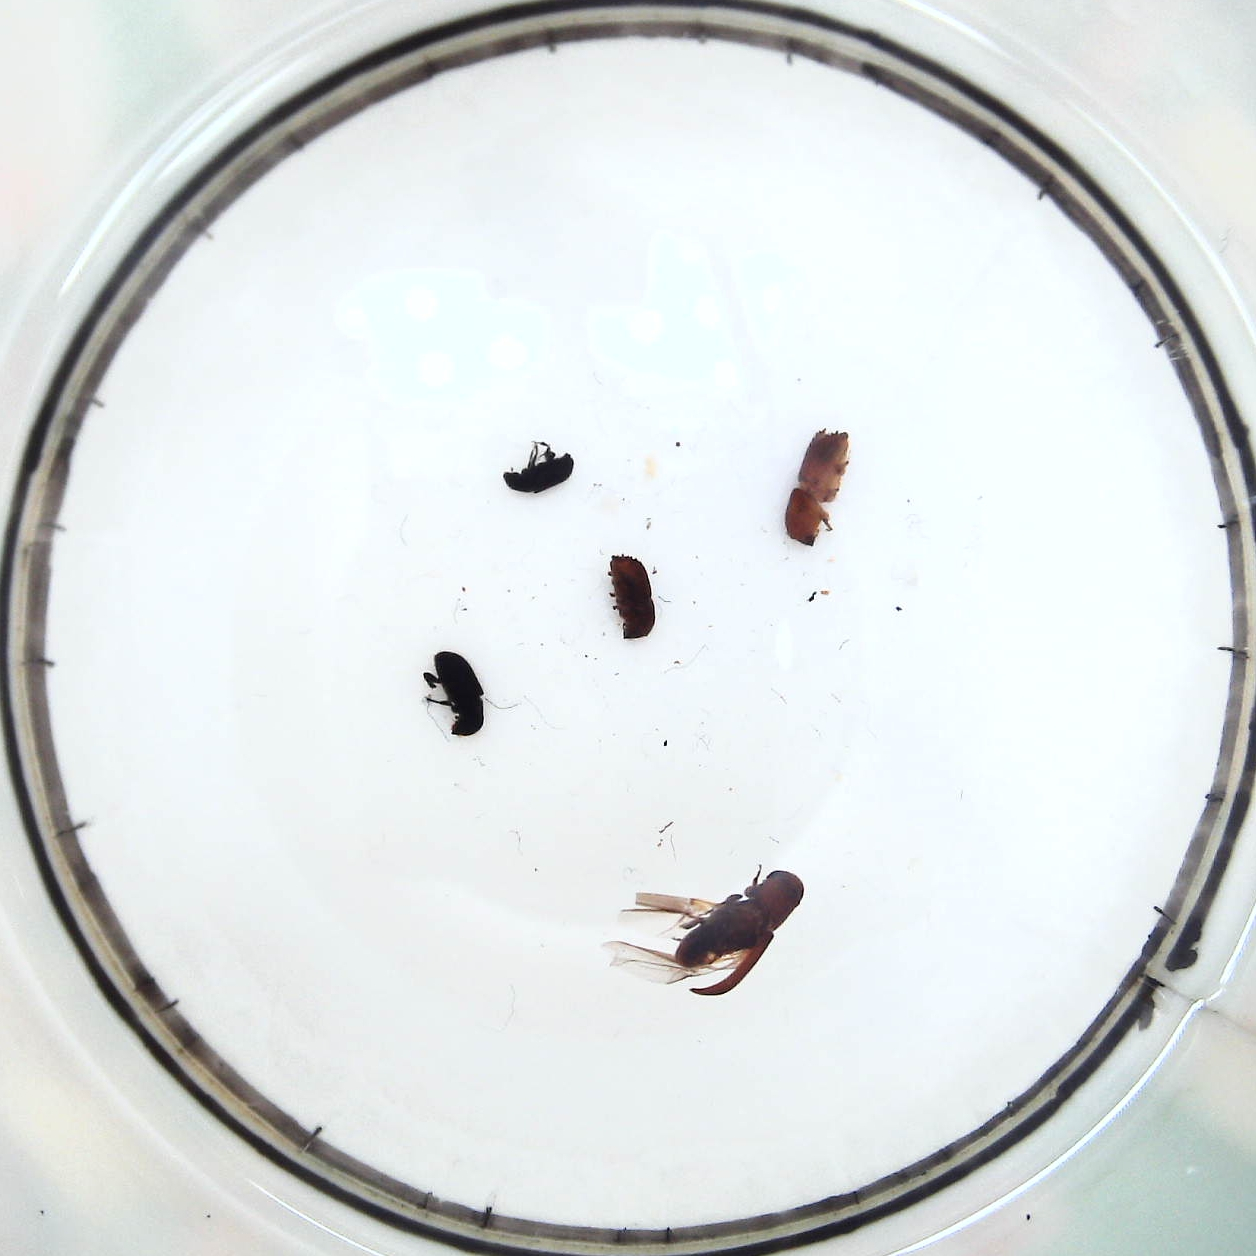Boerner: (782, 427, 851, 546)
Leconte: (608, 872, 806, 1000)
Linnaeus: (608, 547, 657, 643)
armandi: (429, 648, 484, 737)
coleoptera: (503, 449, 576, 491)
